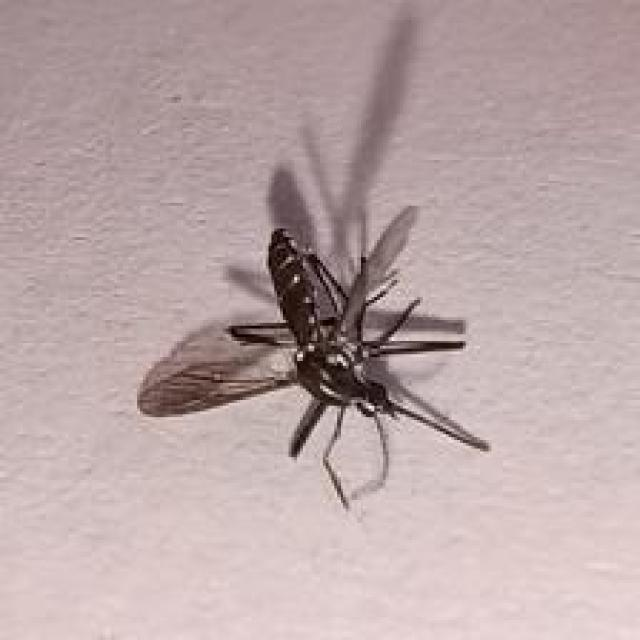Aedes albopictus: (136, 7, 493, 513)
